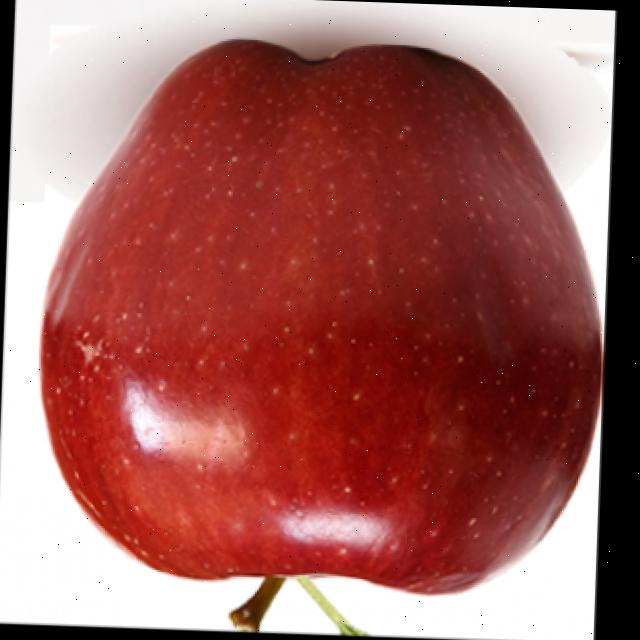Apel: (29, 30, 613, 640)
